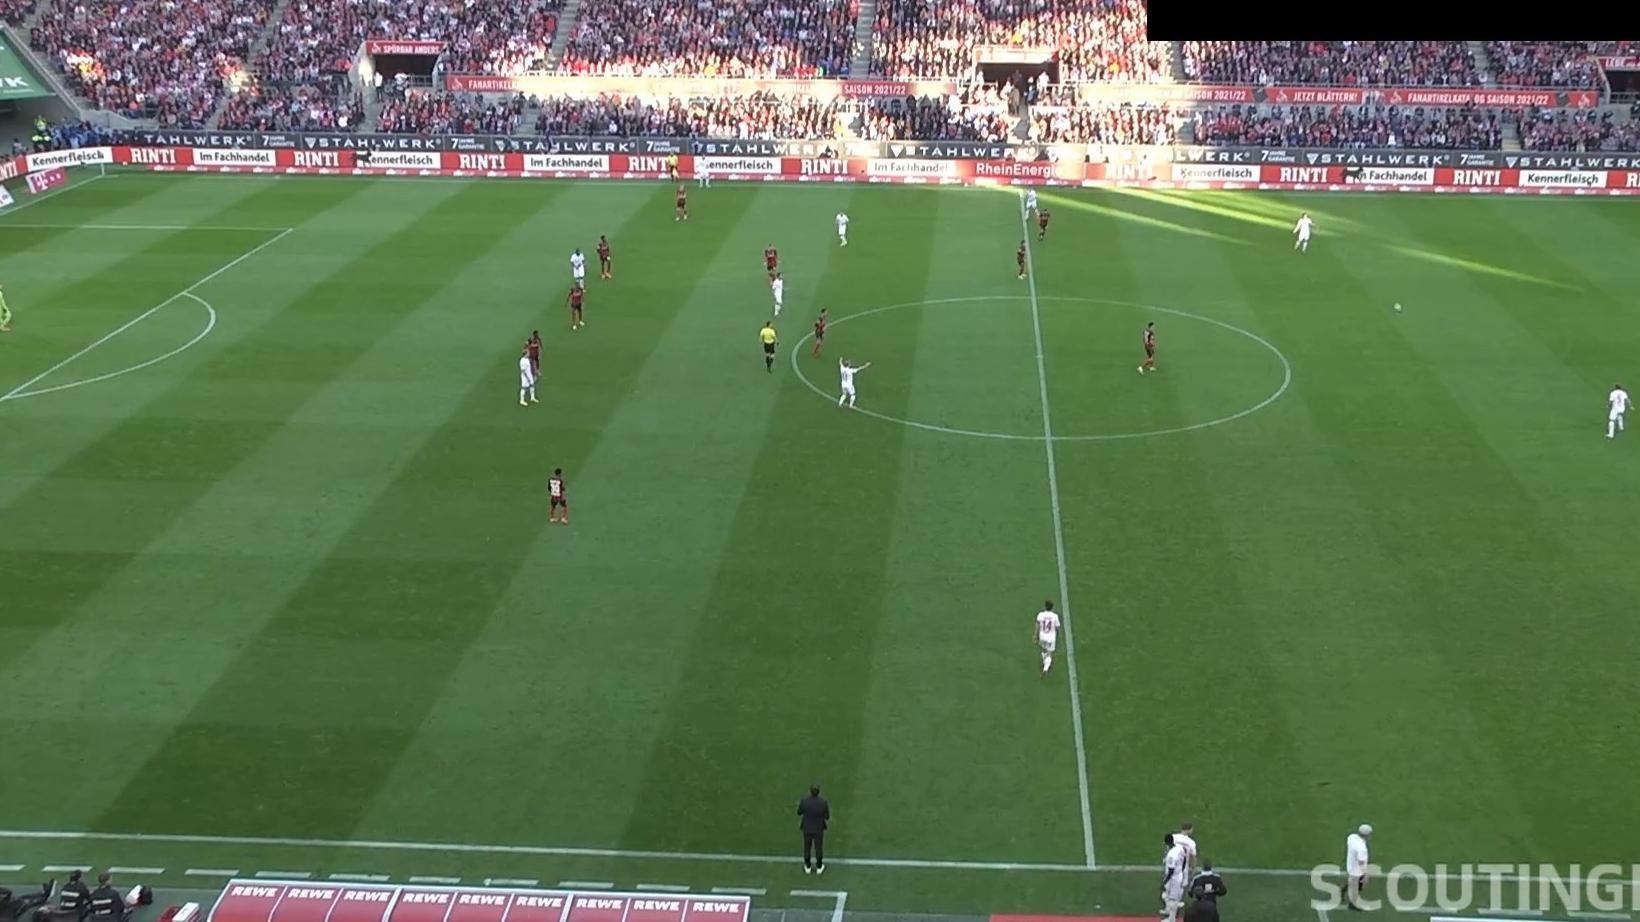ball: (1393, 302, 1403, 312)
